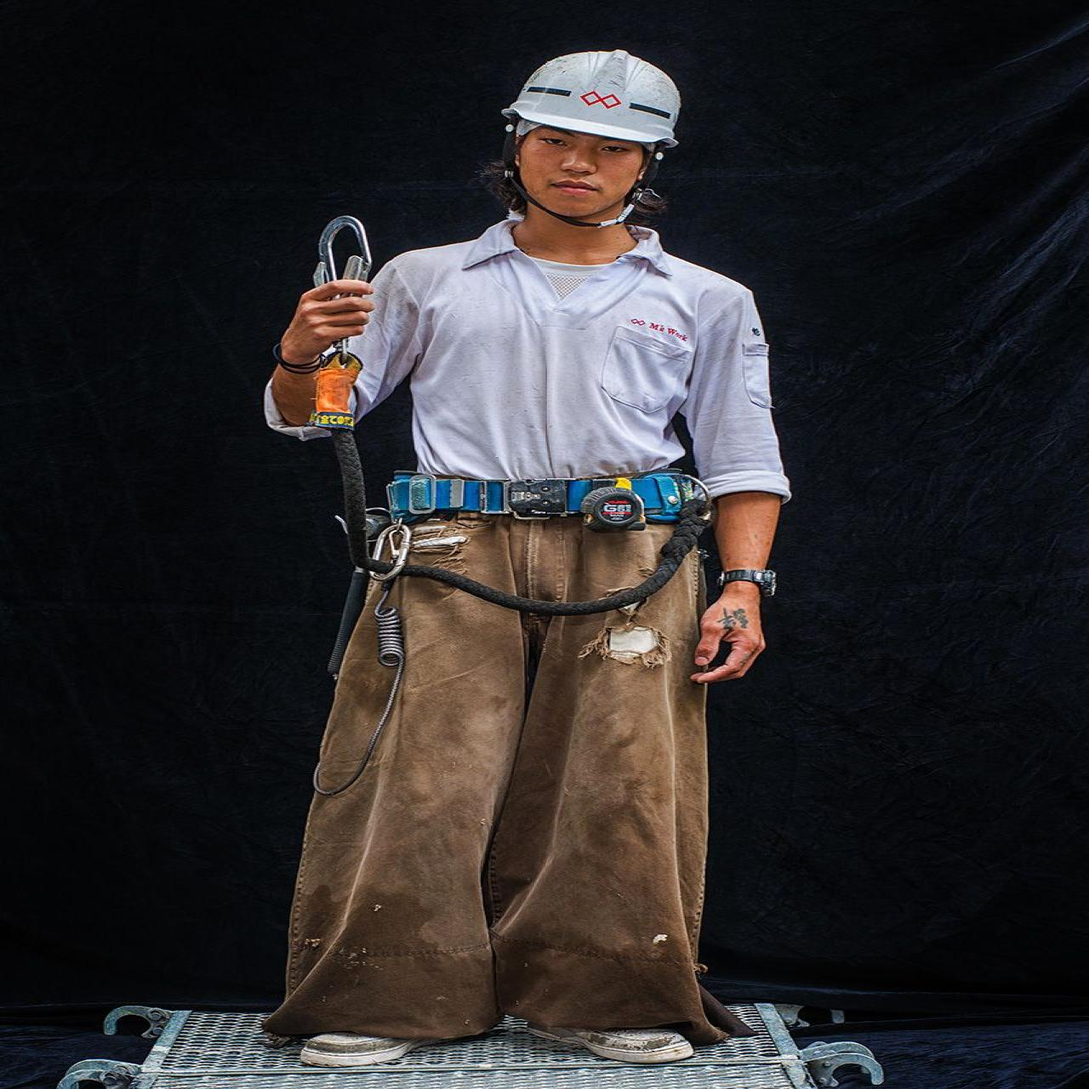NO_Safety_Vest: (347, 229, 747, 511)
Person: (196, 41, 810, 1039)
